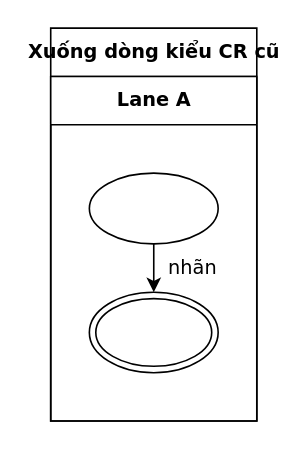
The diagram is 306 pixels wide and 449 high, and some of its shapes have lost their labels. Each missing label, with the centre of its shape:
"Vào" belongs at point 153,207.
"Xong" belongs at point 153,332.
